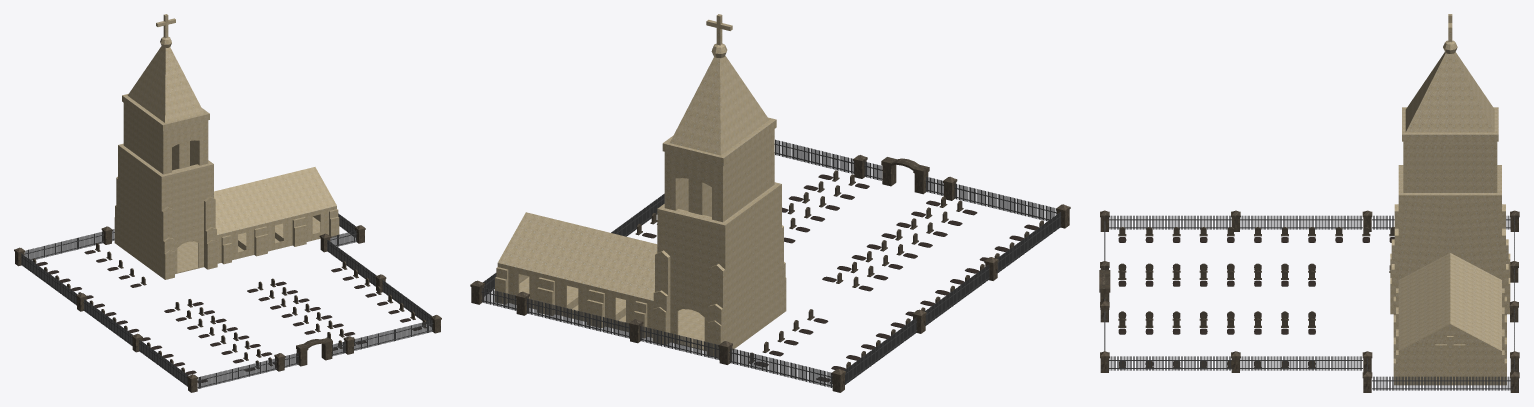
File: Graveyard.fbx
3 views of the same model, side by side, from view 1: azimuth 30°, elevation 25°; view 2: azimuth 150°, elevation 25°; view 3: azimuth 270°, elevation 25° (orthographic). The views are drawn at different scales.
Parts seen in each view (by area): view 1: Plane.001, MetalGates, Cube.004, GateStone; view 2: Plane.001, MetalGates, Cube.004, GateStone; view 3: Plane.001, MetalGates, Cube.004, GateStone.
Boxes of the visible parts, <box> form: Plane.001: <box>114,14,339,279</box>; MetalGates: <box>21,213,433,388</box>; Cube.004: <box>32,243,426,382</box>; GateStone: <box>14,225,441,392</box>; Plane.001: <box>495,14,786,357</box>; MetalGates: <box>481,139,1061,387</box>; Cube.004: <box>635,170,1043,383</box>; GateStone: <box>470,155,1070,392</box>; Plane.001: <box>1390,14,1510,385</box>; MetalGates: <box>1104,215,1514,390</box>; Cube.004: <box>1118,227,1394,369</box>; GateStone: <box>1099,210,1519,392</box>.
Size of the model in its own units: 5710 by 4591 by 6146.
Materials: 4 (3 with a texture image).
